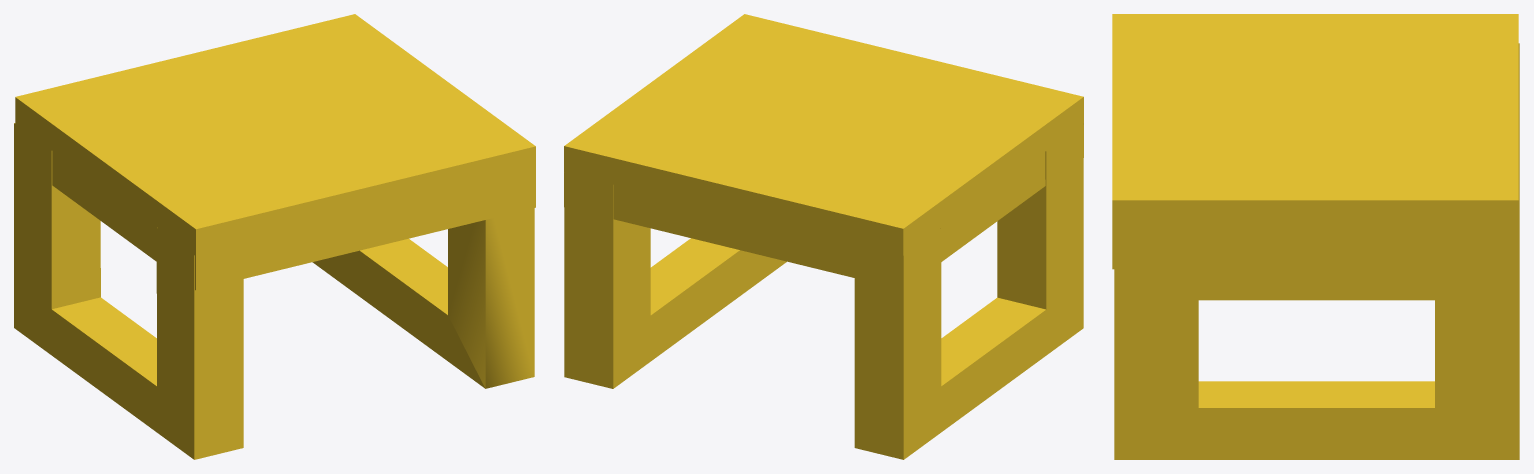
File: table01_s03.FBX
3 views of the same model, side by side, from view 1: azimuth 30°, elevation 25°; view 2: azimuth 150°, elevation 25°; view 3: azimuth 270°, elevation 25° (orthographic). The views are drawn at different scales.
Visible parts, largest first — view 1: table01_s03; view 2: table01_s03; view 3: table01_s03.
Boxes of the visible parts, bbox=[...] form: table01_s03: bbox=[14, 14, 535, 459]; table01_s03: bbox=[564, 14, 1083, 459]; table01_s03: bbox=[1112, 14, 1519, 459].
Bounding box in the file's own units: 127 × 117 × 82.44.
1 material, 1 textured.
